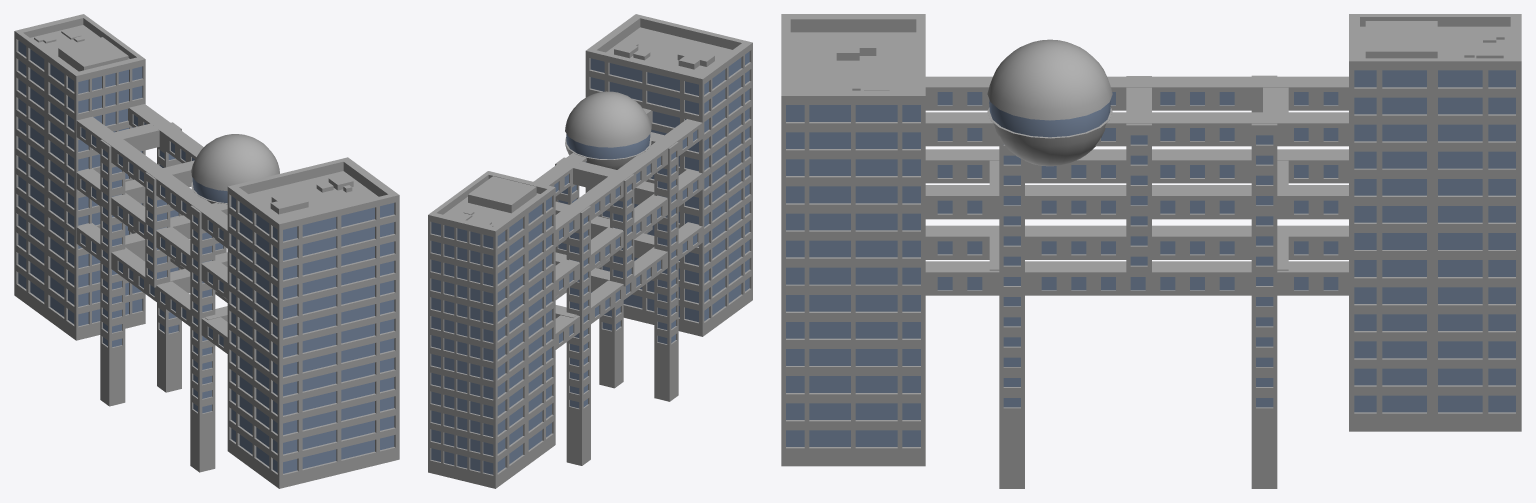
File: UncombinedOrbLatticeBuilding.fbx
3 renders of one model, left to right at view 1: azimuth 30°, elevation 25°; view 2: azimuth 150°, elevation 25°; view 3: azimuth 270°, elevation 25°, orthographic. The views are drawn at different scales.
Parts seen in each view (by area): view 1: pCube16, pCube17, pCube52, pCube51, pCube59, pSphere2, pCube56, pCube58, pCube50, pCube54, pCube60, pCube39 (+3 smaller); view 2: pCube17, pCube16, pCube52, pCube51, pSphere2, pCube59, pCube56, pCube58, pCube49, pCube54, pCube39, pCube60 (+5 smaller); view 3: pCube17, pCube16, pCube55, pSphere2, pCube57, pCube56, pCube58, pCube50, pCube60, pCube59, pCube49, pCube53 (+1 smaller).
Part boxes in pixels (left/top/right/bottom): pCube16: left=227, top=157, right=399, bottom=488; pCube17: left=14, top=14, right=145, bottom=340; pCube52: left=190, top=205, right=215, bottom=472; pCube51: left=100, top=139, right=125, bottom=406; pCube59: left=76, top=116, right=227, bottom=247; pSphere2: left=191, top=134, right=279, bottom=204; pCube56: left=76, top=223, right=227, bottom=353; pCube58: left=76, top=168, right=227, bottom=299; pCube50: left=157, top=122, right=181, bottom=392; pCube54: left=145, top=172, right=170, bottom=287; pCube60: left=128, top=104, right=203, bottom=163; pCube39: left=58, top=37, right=128, bottom=71; pCube17: left=428, top=171, right=555, bottom=488; pCube16: left=585, top=14, right=752, bottom=336; pCube52: left=654, top=142, right=678, bottom=401; pCube51: left=566, top=206, right=590, bottom=465; pSphere2: left=565, top=91, right=651, bottom=169; pCube59: left=555, top=119, right=702, bottom=245; pCube56: left=555, top=222, right=702, bottom=349; pCube58: left=555, top=169, right=702, bottom=296; pCube49: left=599, top=208, right=623, bottom=388; pCube54: left=610, top=174, right=634, bottom=286; pCube39: left=468, top=176, right=536, bottom=213; pCube60: left=533, top=108, right=652, bottom=196; pCube17: left=1349, top=14, right=1521, bottom=431; pCube16: left=781, top=14, right=925, bottom=466; pCube55: left=925, top=261, right=1348, bottom=295; pSphere2: left=987, top=39, right=1112, bottom=166; pCube57: left=925, top=185, right=1348, bottom=219; pCube56: left=925, top=225, right=1348, bottom=259; pCube58: left=925, top=149, right=1348, bottom=183; pCube50: left=1251, top=123, right=1277, bottom=488; pCube60: left=925, top=112, right=1348, bottom=146; pCube59: left=925, top=76, right=1348, bottom=110; pCube49: left=999, top=136, right=1024, bottom=488; pCube53: left=1126, top=123, right=1151, bottom=276.
Bounding box in the file's own units: 7.68 × 18.53 × 28.85.
